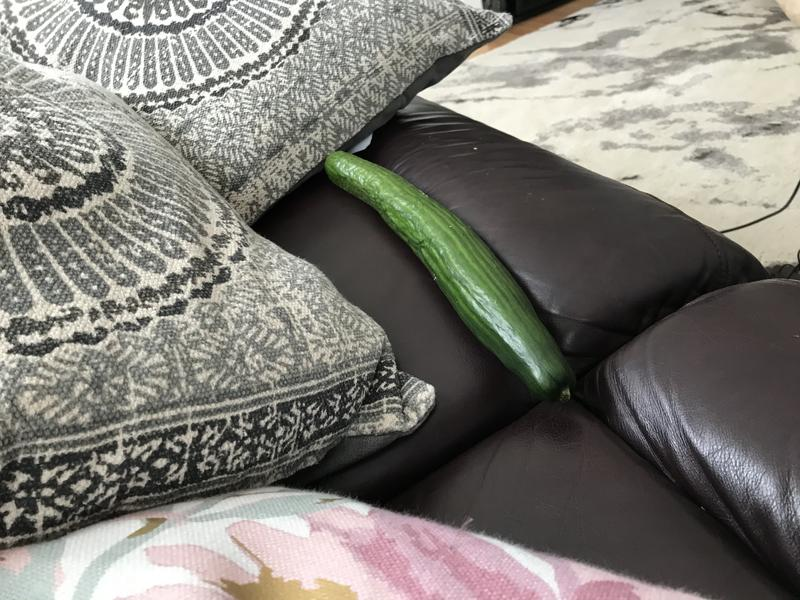cucumber: (311, 138, 585, 417)
